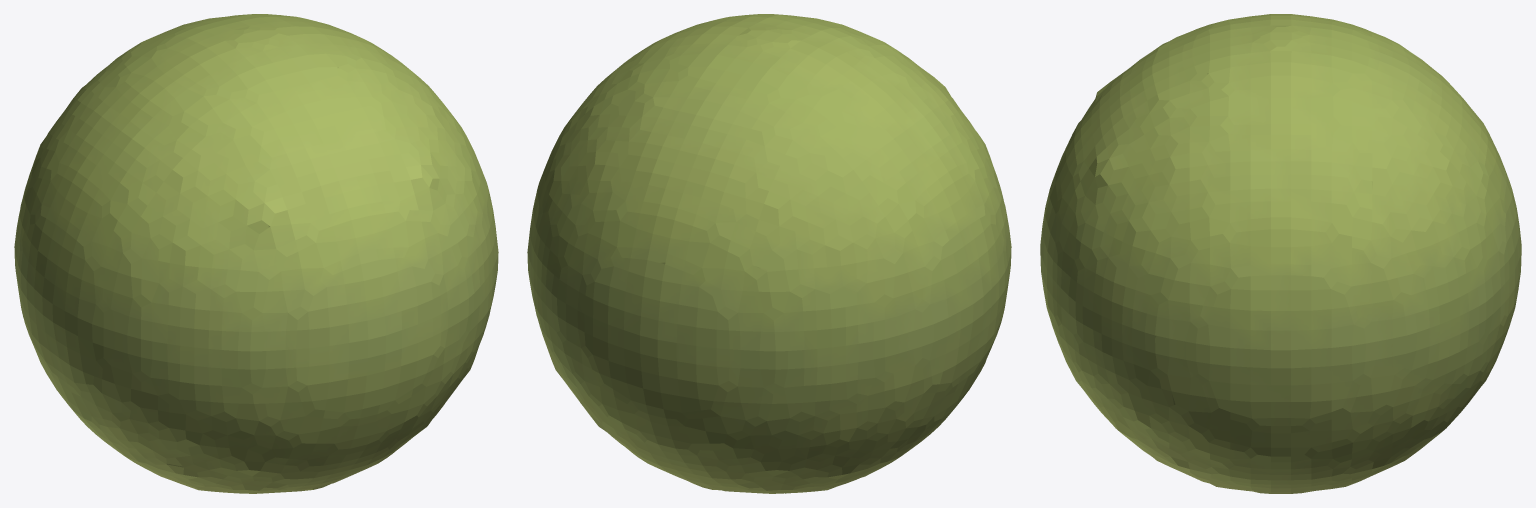
File: greenSlime.glb
The picture shows the model from 3 angles, left to right: view 1: azimuth 30°, elevation 25°; view 2: azimuth 150°, elevation 25°; view 3: azimuth 270°, elevation 25°; orthographic projection.
Visible parts, largest first — view 1: geometry_0; view 2: geometry_0; view 3: geometry_0.
Part boxes in pixels (<box>): geometry_0: <box>14,14,498,493</box>; geometry_0: <box>527,14,1011,493</box>; geometry_0: <box>1040,14,1521,493</box>.
Bounding box in the file's own units: 1.02 × 0.9937 × 1.02.
1 material, 1 textured.
